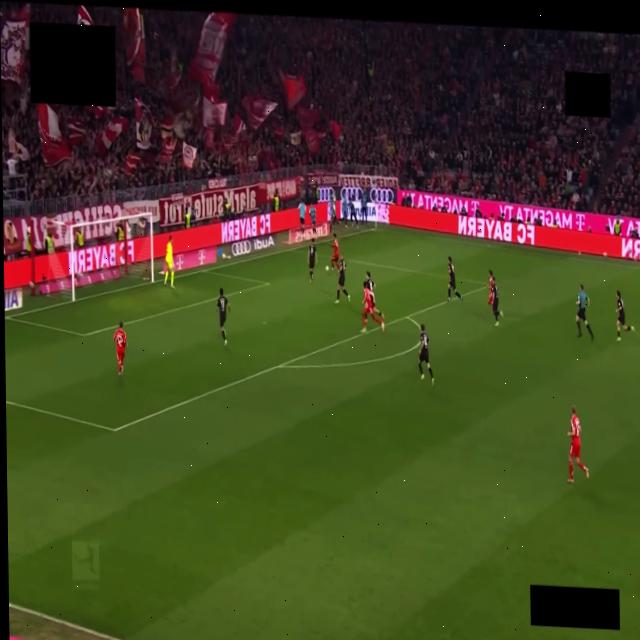ball: (325, 266, 328, 272)
player: (567, 405, 588, 482), (361, 283, 384, 332), (418, 325, 433, 386), (364, 271, 383, 319), (616, 291, 633, 342), (335, 256, 349, 303), (114, 322, 126, 375), (447, 256, 461, 301), (217, 288, 228, 345), (491, 276, 502, 327), (164, 236, 173, 288), (307, 237, 316, 282), (330, 233, 339, 267), (488, 270, 493, 304)
referee: (575, 285, 593, 341)
